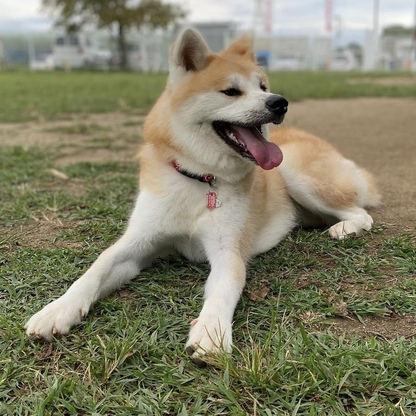akita: (18, 20, 387, 369)
